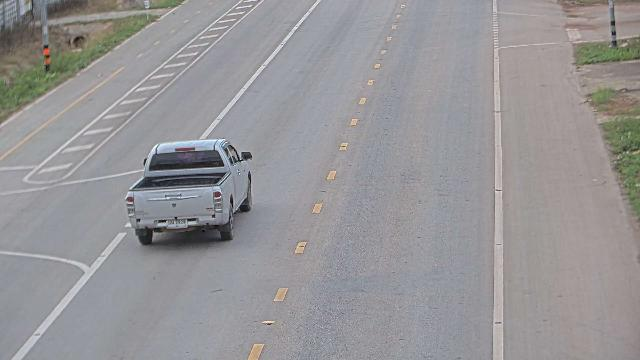pickup-truck: (124, 137, 253, 245)
